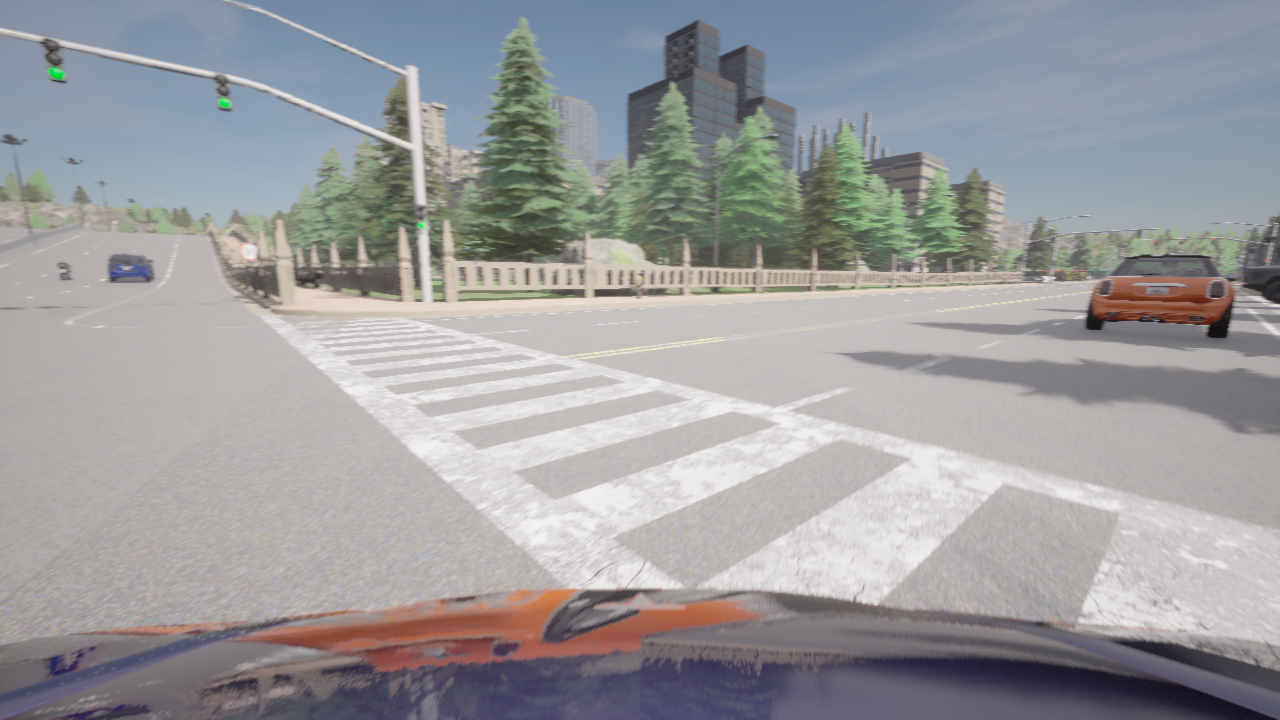cyclist: (0, 588, 1279, 719), (1085, 248, 1240, 337), (1241, 265, 1279, 303), (108, 254, 153, 281), (57, 263, 73, 281), (1092, 274, 1102, 278), (1088, 275, 1093, 278), (1101, 277, 1103, 278)
